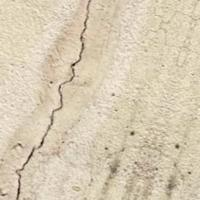crack: (6, 0, 105, 199)
